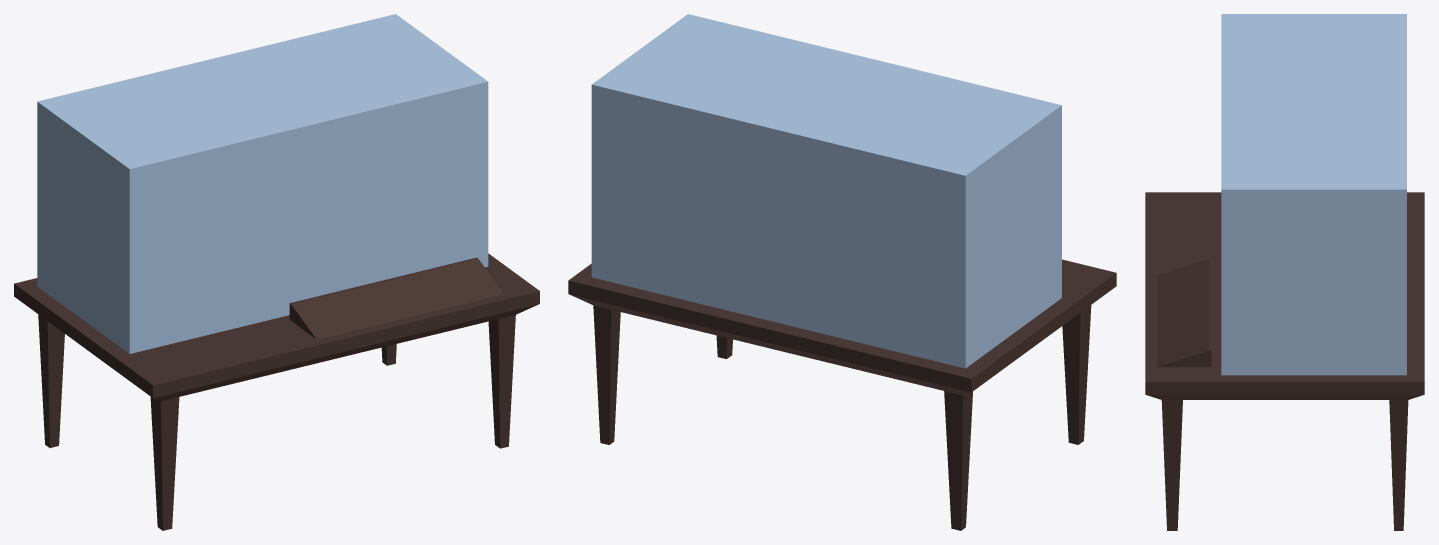
The model's file is SM_LargeDisplayCase.fbx.
3 renders of one model, left to right at view 1: azimuth 30°, elevation 25°; view 2: azimuth 150°, elevation 25°; view 3: azimuth 270°, elevation 25°, orthographic. The views are drawn at different scales.
Visible parts, largest first — view 1: SM_LargeDisplayCase; view 2: SM_LargeDisplayCase; view 3: SM_LargeDisplayCase.
Boxes of the visible parts, x1=… form: SM_LargeDisplayCase: x1=14, y1=14, x2=539, y2=530; SM_LargeDisplayCase: x1=568, y1=14, x2=1116, y2=530; SM_LargeDisplayCase: x1=1145, y1=14, x2=1424, y2=530.
Bounding box in the file's own units: 182 × 154 × 113.
